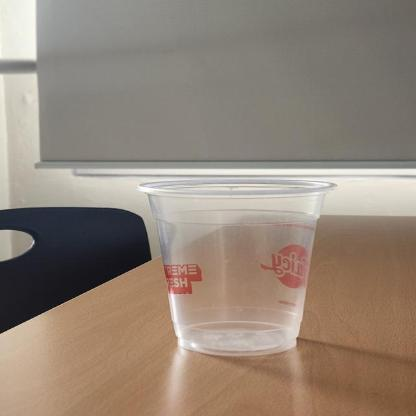Plastic Cup: (135, 177, 337, 357)
